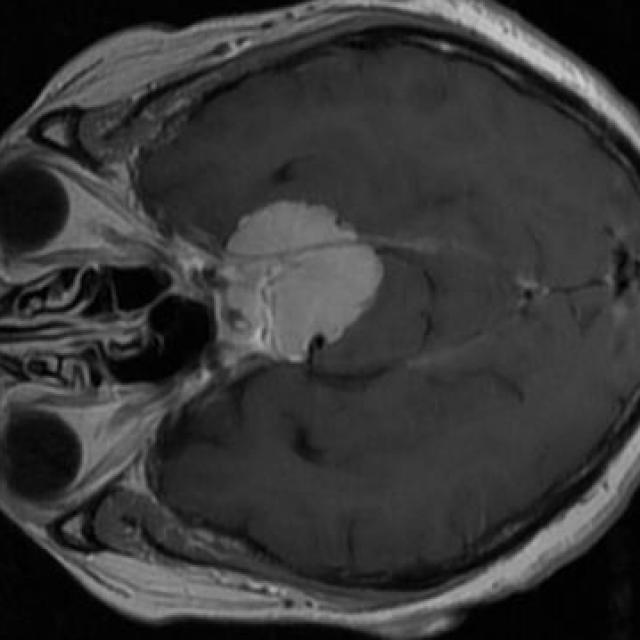meningioma: (214, 201, 383, 362)
